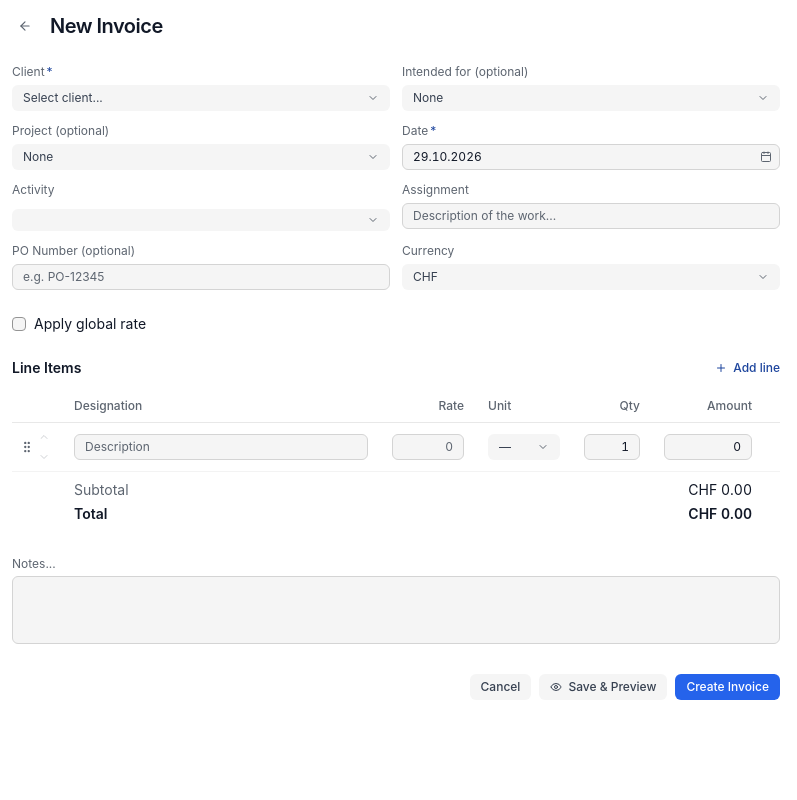
Test: client select — first pick must stick › new invoice
The width and height of the screenshot is (797, 800).
Click the dropdown labelled "Select client..." at (63, 98), box x1=12 y1=85 x2=390 y2=111
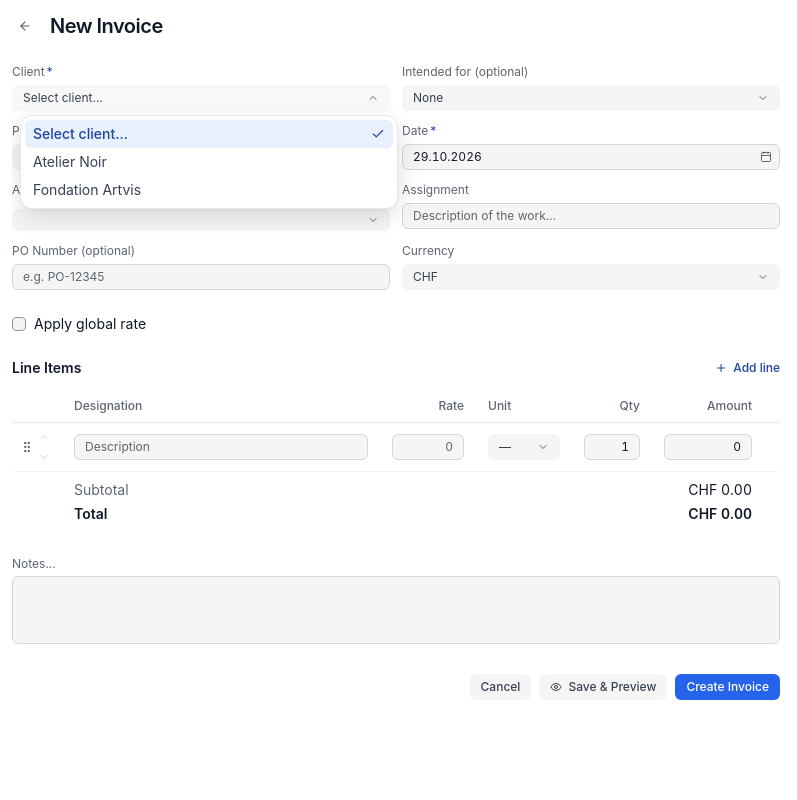
Click the option "Fondation Artvis" at (87, 190), box x1=33 y1=181 x2=141 y2=198
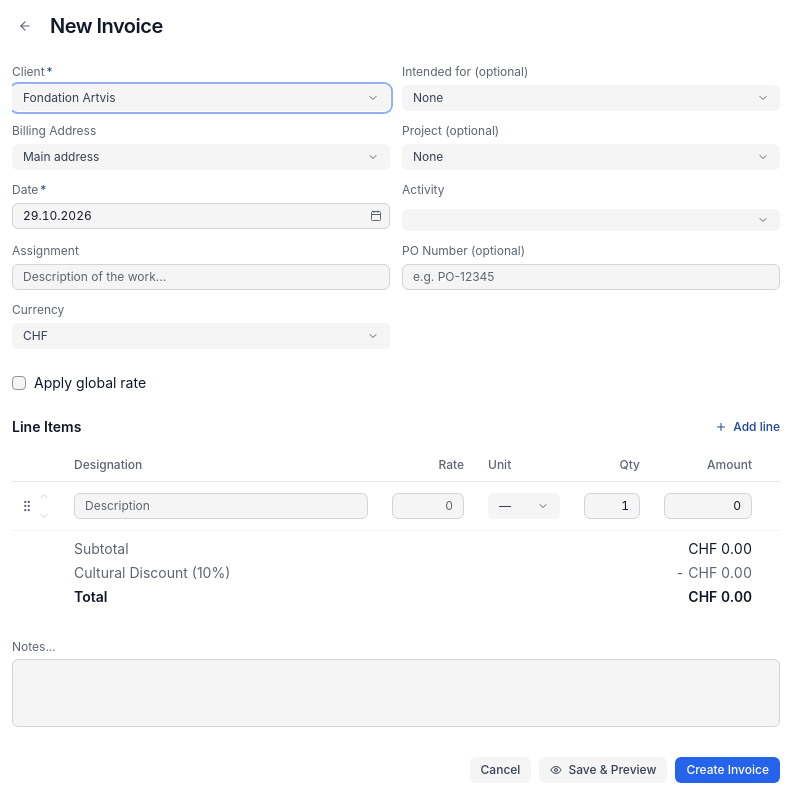
expect the dropdown named "client" reads "Fondation Artvis": met, box x1=12 y1=85 x2=390 y2=111
